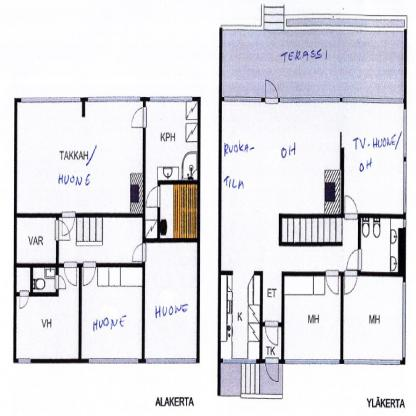door: (54, 218, 74, 242), (266, 355, 281, 384), (324, 271, 339, 297), (64, 262, 78, 288), (265, 320, 280, 344), (265, 79, 280, 103), (345, 250, 362, 271), (345, 196, 358, 221), (83, 264, 97, 286), (130, 108, 146, 127), (63, 211, 76, 234), (344, 272, 357, 294), (146, 187, 159, 206), (131, 244, 144, 260), (55, 274, 65, 292), (20, 290, 29, 308)
window: (224, 94, 264, 105), (21, 97, 79, 103), (286, 359, 338, 365), (149, 96, 193, 103), (341, 97, 401, 102), (403, 284, 407, 358), (90, 359, 138, 365), (220, 357, 258, 364), (402, 111, 408, 154), (279, 97, 341, 101), (346, 360, 398, 364), (87, 96, 138, 100), (145, 359, 195, 363), (403, 163, 407, 211), (18, 358, 34, 364), (403, 219, 405, 227)
zone: (222, 102, 357, 270), (18, 101, 139, 211), (222, 26, 403, 98), (145, 100, 196, 238), (342, 102, 402, 212), (144, 242, 198, 358), (17, 269, 80, 358), (220, 268, 281, 358), (84, 269, 142, 360), (345, 276, 401, 360), (285, 276, 339, 359), (60, 221, 141, 265), (222, 362, 281, 397), (160, 184, 195, 237), (362, 219, 398, 270), (17, 219, 54, 261), (262, 271, 280, 321), (264, 326, 283, 355), (34, 267, 54, 294), (16, 267, 30, 292)
